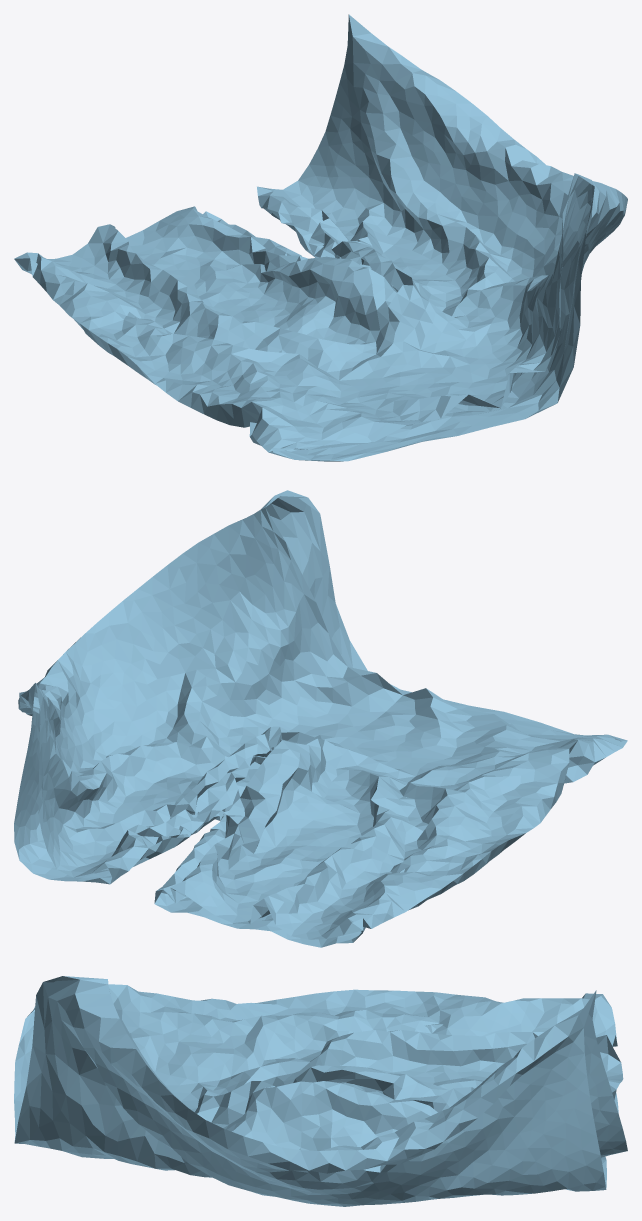
Rendered from frame_07.glb.
3 renders of one model, top to bottom at view 1: azimuth 30°, elevation 25°; view 2: azimuth 150°, elevation 25°; view 3: azimuth 270°, elevation 25°, orthographic. The views are drawn at different scales.
Visible parts, largest first — view 1: frame_07.obj; view 2: frame_07.obj; view 3: frame_07.obj.
Part boxes in pixels (bbox=[...]): frame_07.obj: bbox=[14, 14, 627, 461]; frame_07.obj: bbox=[14, 490, 627, 947]; frame_07.obj: bbox=[14, 976, 627, 1206].
Size of the model in its own units: 1.39 by 0.5889 by 1.5.
